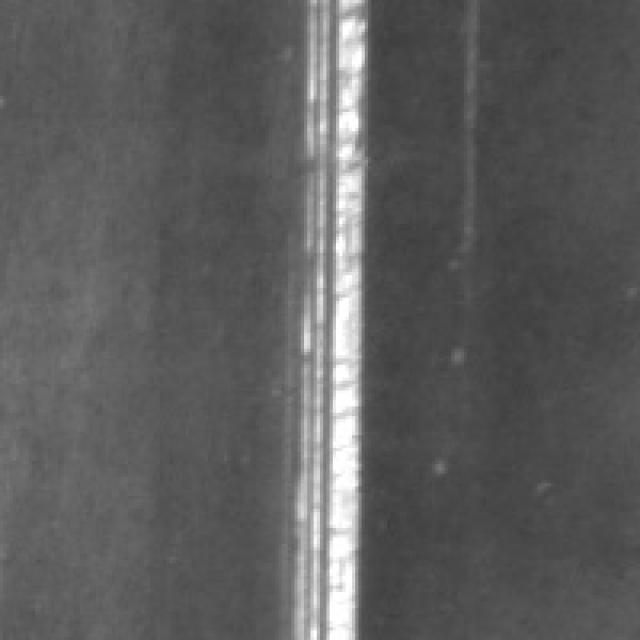scratches: (282, 0, 368, 637)
